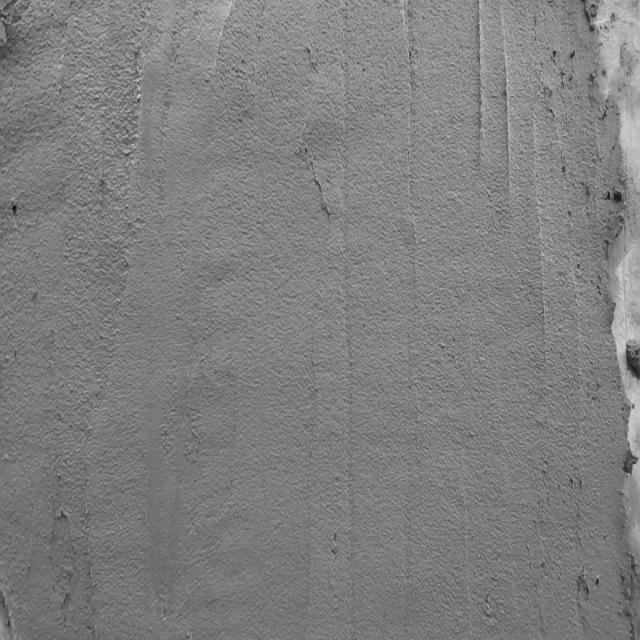trowels marks: (473, 1, 488, 182), (498, 39, 513, 194)
